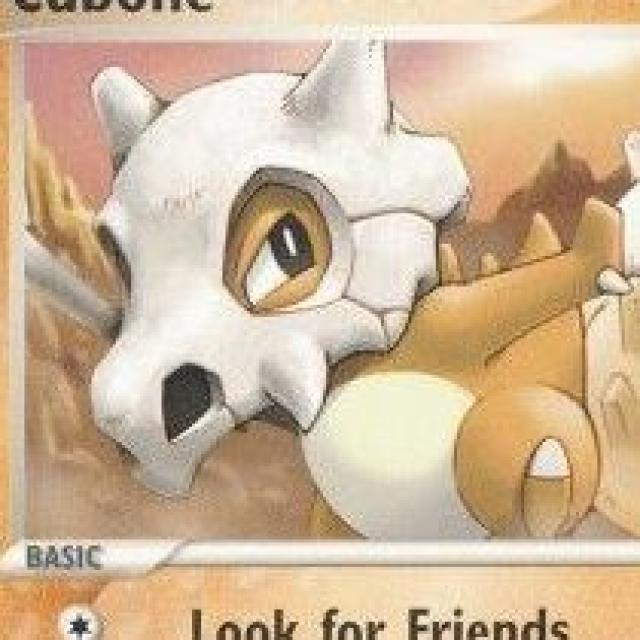Cubone: (87, 59, 601, 536)
